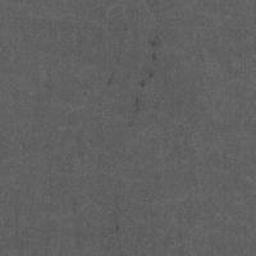Inclusion: (107, 72, 114, 86), (150, 40, 157, 47), (152, 53, 157, 61)
